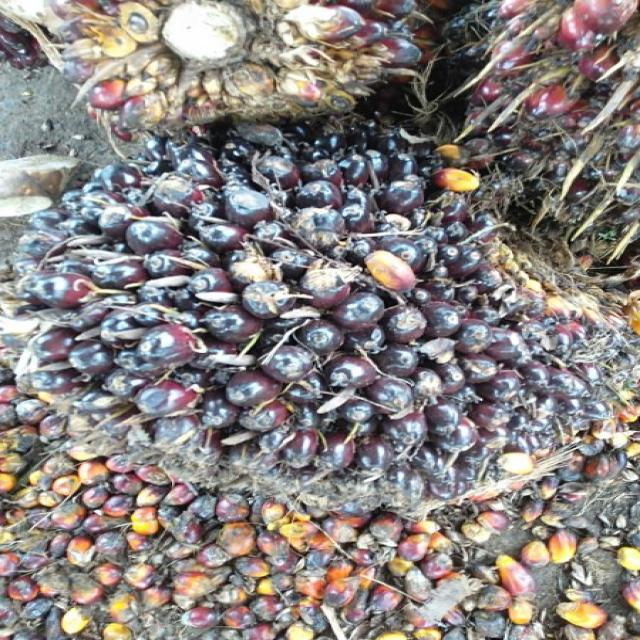fraksi 00: (3, 141, 640, 514)
